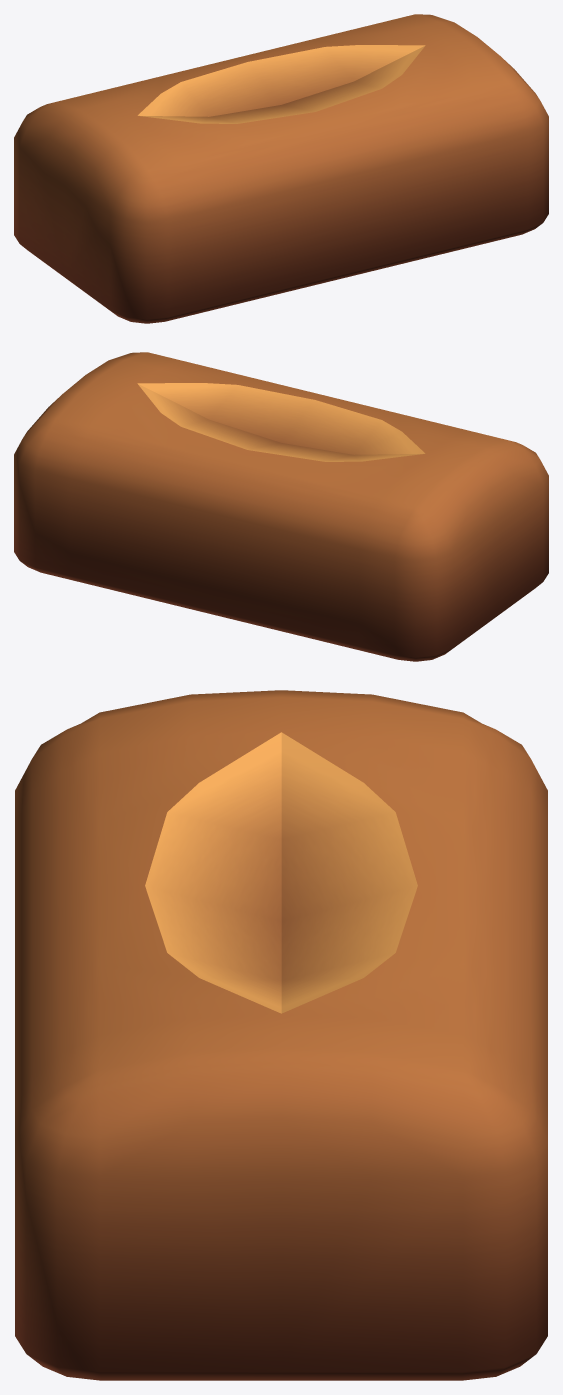
Rendered from m_LoafCake01.fbx.
3 views of the same model, one above another, from view 1: azimuth 30°, elevation 25°; view 2: azimuth 150°, elevation 25°; view 3: azimuth 270°, elevation 25° (orthographic). The views are drawn at different scales.
Visible parts, largest first — view 1: m_LoafCake01; view 2: m_LoafCake01; view 3: m_LoafCake01.
Boxes of the visible parts, x1,y1,x2,y2 form: m_LoafCake01: (14,14,548,323); m_LoafCake01: (14,352,548,661); m_LoafCake01: (15,690,547,1380).
Size of the model in its own units: 30 by 10.08 by 16.
